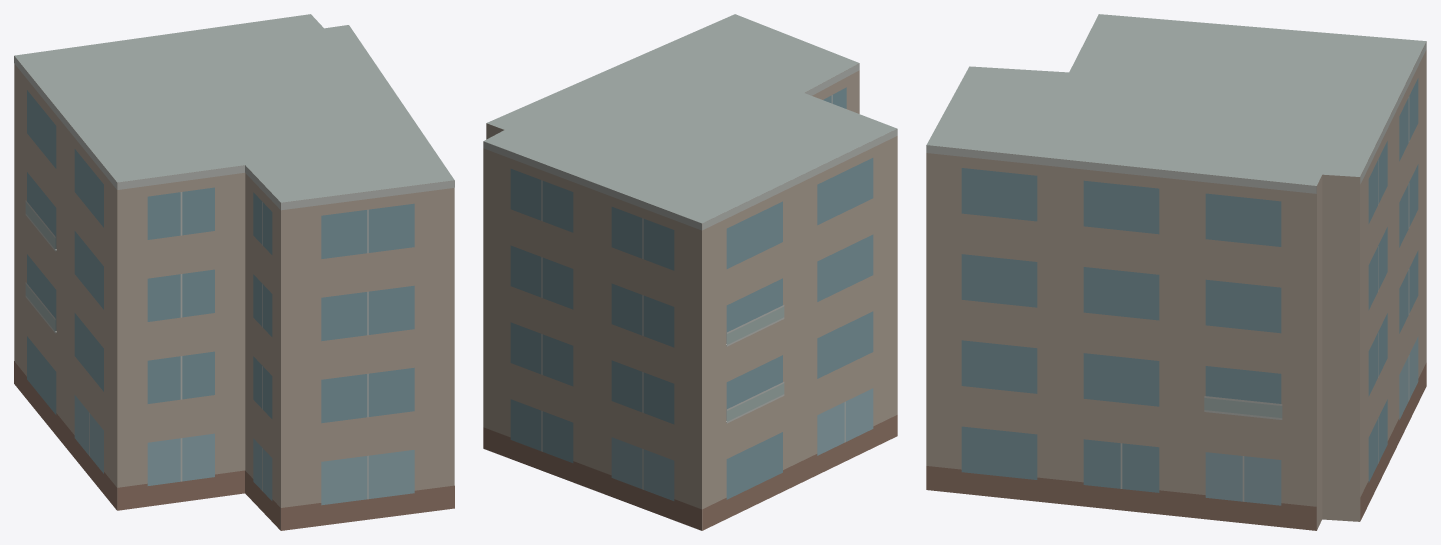
The model's file is survey-upis-33040279.glb.
3 renders of one model, left to right at view 1: azimuth 30°, elevation 25°; view 2: azimuth 150°, elevation 25°; view 3: azimuth 270°, elevation 25°, orthographic. The views are drawn at different scales.
Parts seen in each view (by area): view 1: survey-upis-33040279.tmp; view 2: survey-upis-33040279.tmp; view 3: survey-upis-33040279.tmp.
Boxes of the visible parts, <box> form: survey-upis-33040279.tmp: <box>14,14,454,530</box>; survey-upis-33040279.tmp: <box>483,14,897,530</box>; survey-upis-33040279.tmp: <box>926,14,1426,530</box>.
Bounding box in the file's own units: 11.35 × 10.6 × 13.94.
